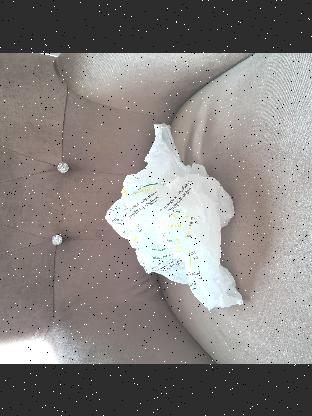Others: (107, 123, 247, 308)
